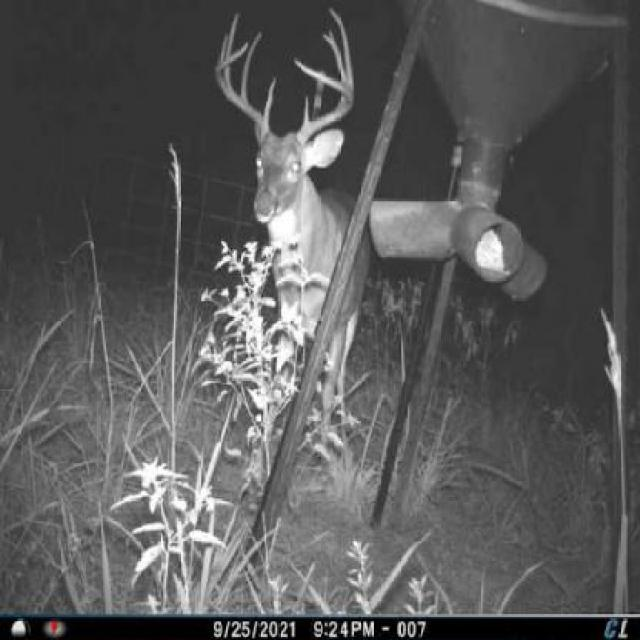Deer: (208, 3, 369, 455)
